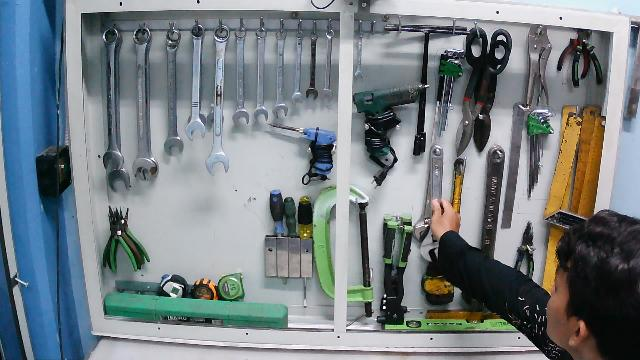kunci_inggris: (413, 142, 449, 264)
